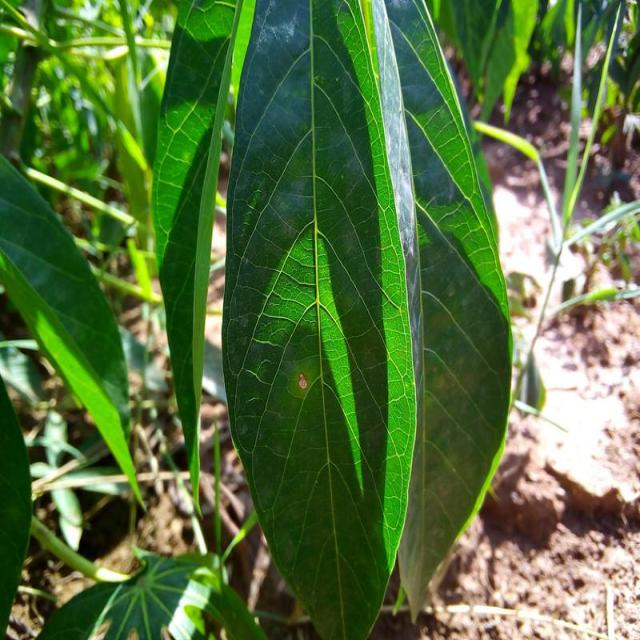cassava leaf: (219, 0, 421, 638), (381, 0, 514, 624), (0, 151, 145, 514), (149, 0, 242, 516)
